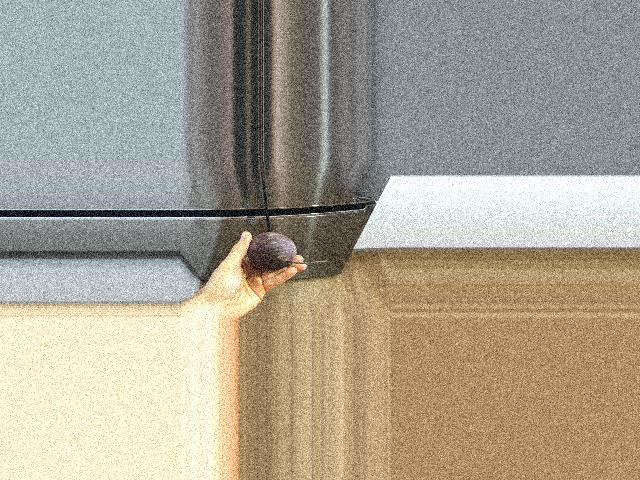beet: (248, 232, 329, 269)
